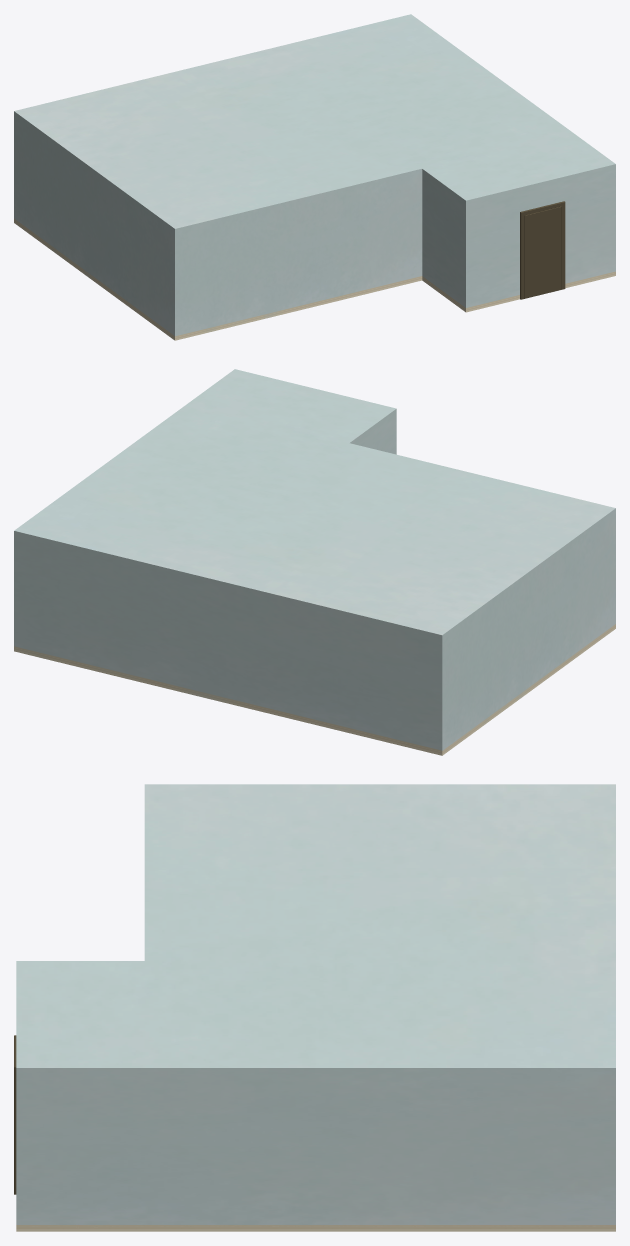
Rendered from LivingroomV2.fbx.
3 renders of one model, top to bottom at view 1: azimuth 30°, elevation 25°; view 2: azimuth 150°, elevation 25°; view 3: azimuth 270°, elevation 25°, orthographic. The views are drawn at different scales.
Visible parts, largest first — view 1: Room1, Livingroom_Door, Livingroom_Doorframe; view 2: Room1; view 3: Room1.
Boxes of the visible parts, x1=… form: Room1: x1=14, y1=14, x2=615, y2=340; Livingroom_Door: x1=524, y1=206, x2=561, y2=298; Livingroom_Doorframe: x1=520, y1=201, x2=565, y2=299; Room1: x1=14, y1=369, x2=615, y2=755; Room1: x1=16, y1=784, x2=615, y2=1231.
Size of the model in its own units: 21.27 by 5.79 by 19.08.
Materials: 24 (3 with a texture image).
